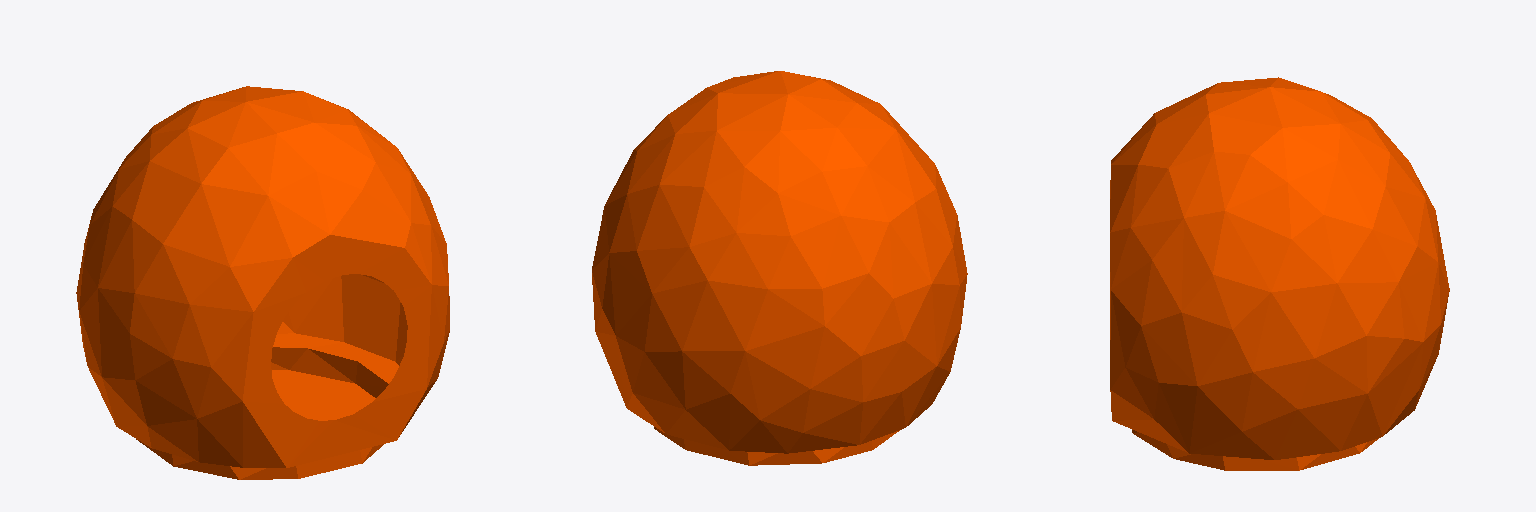
3 renders of one model, left to right at view 1: azimuth 30°, elevation 25°; view 2: azimuth 150°, elevation 25°; view 3: azimuth 270°, elevation 25°, orthographic.
Visible parts, largest first — view 1: link6_object.007; view 2: link6_object.007; view 3: link6_object.007.
Part boxes in pixels (x1,y1,x2,y2): link6_object.007: (76, 86, 449, 479); link6_object.007: (592, 71, 967, 465); link6_object.007: (1110, 77, 1449, 470).
Bounding box in the file's own units: 0.1418 × 0.1355 × 0.1291.